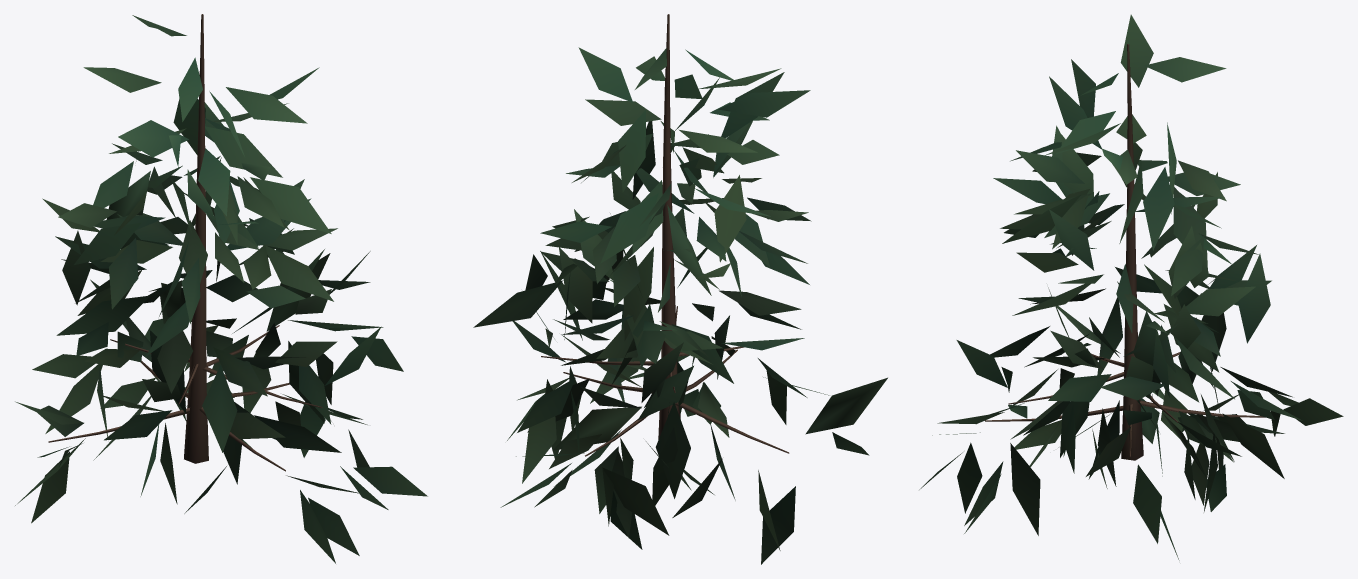
The model's file is spruce-a.lod2.glb.
3 renders of one model, left to right at view 1: azimuth 30°, elevation 25°; view 2: azimuth 150°, elevation 25°; view 3: azimuth 270°, elevation 25°, orthographic. The views are drawn at different scales.
Size of the model in its own units: 9.74 by 13.55 by 10.76.
